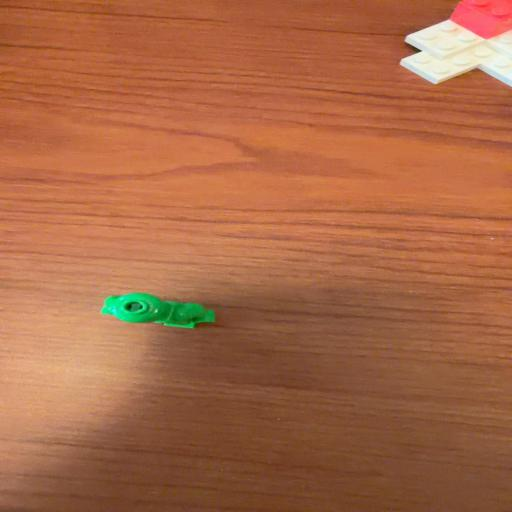UnoQ-minifig-detector: (100, 292, 218, 329)
